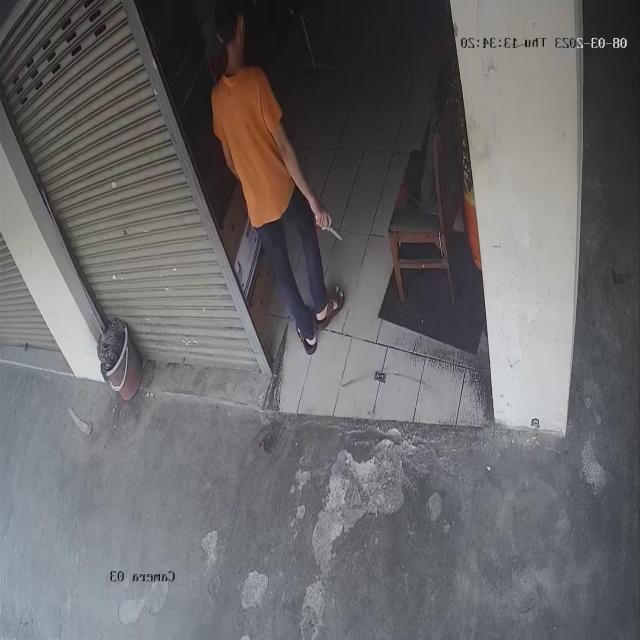Knife: (316, 210, 352, 248)
